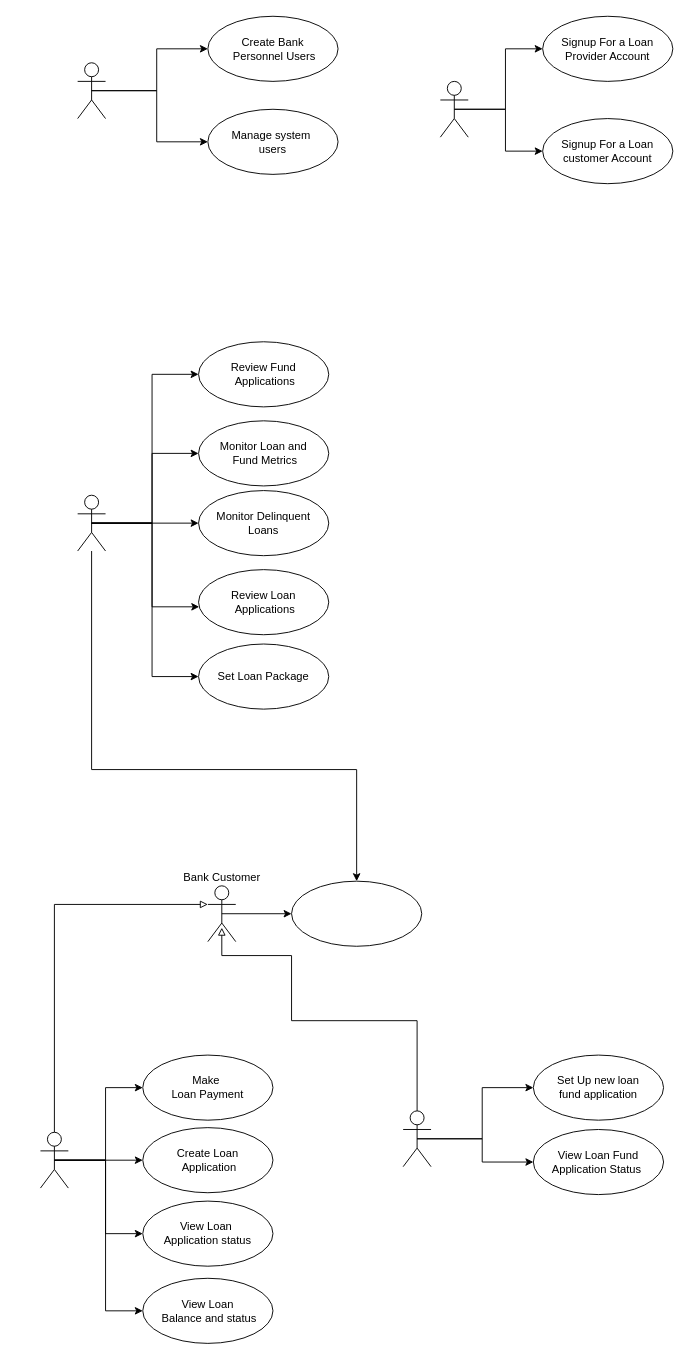
Some shapes in this 689 by 1360 pixel diagram are drawn without their labels. The box of each missing label's shape, as (x1, y1, x2, y2) in pixels:
Admin: (77, 62, 106, 119)
Bank Personnel: (77, 494, 106, 551)
Loan Customer: (40, 1131, 68, 1188)
Loan Provider: (402, 1110, 431, 1167)
Login: (291, 880, 422, 946)
New Bank Customer: (439, 80, 468, 137)
